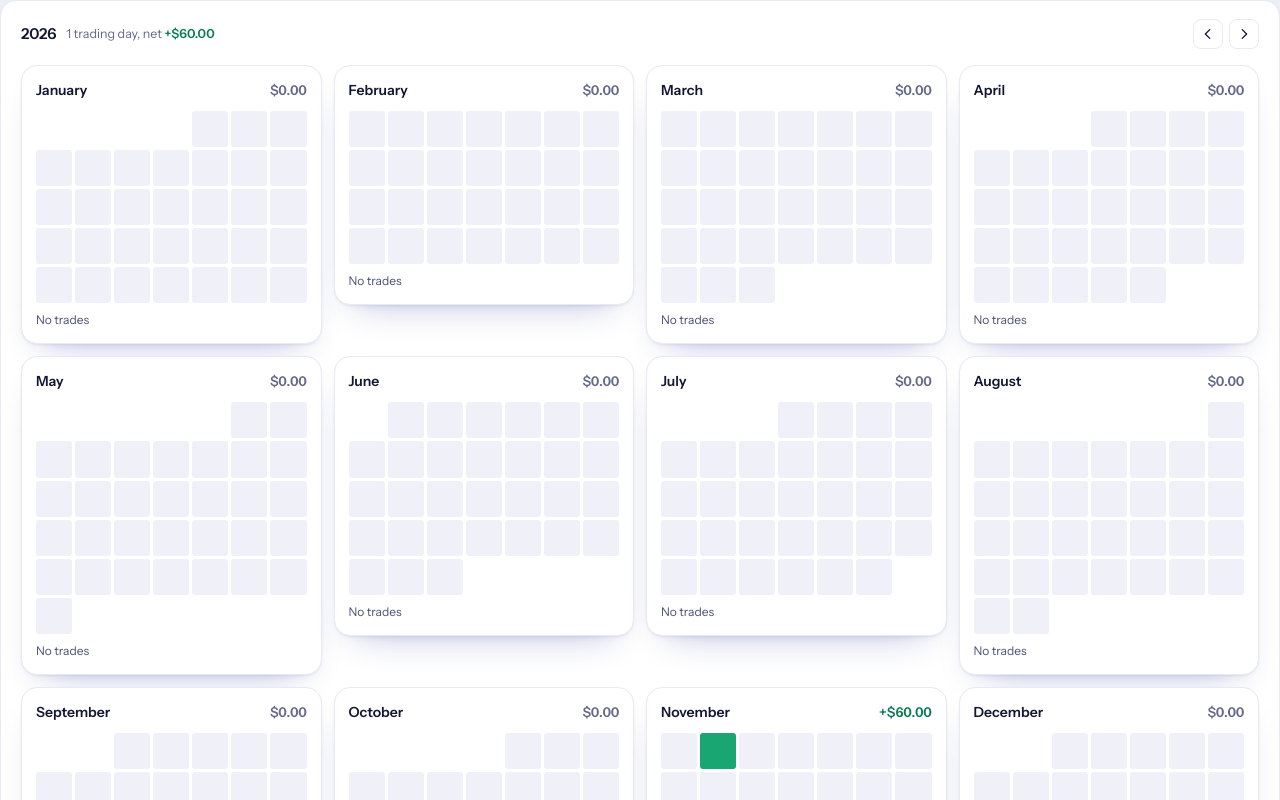
Scenario: the global filters ride along to the Calendar, and the year steps back and forward
Click the button named "Previous year": (1208, 34) [1193, 19, 1223, 49]
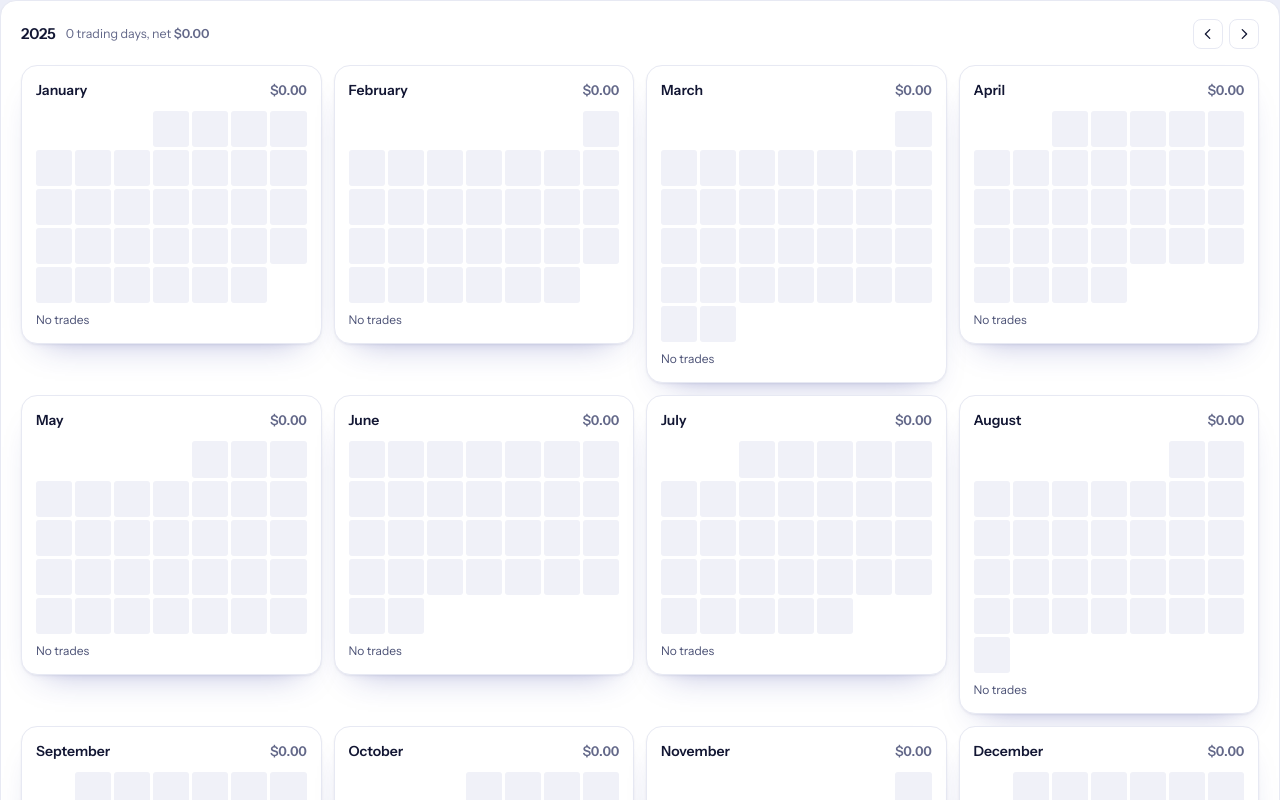
Result: the heading "2025" is shown at [21, 24, 56, 44]
